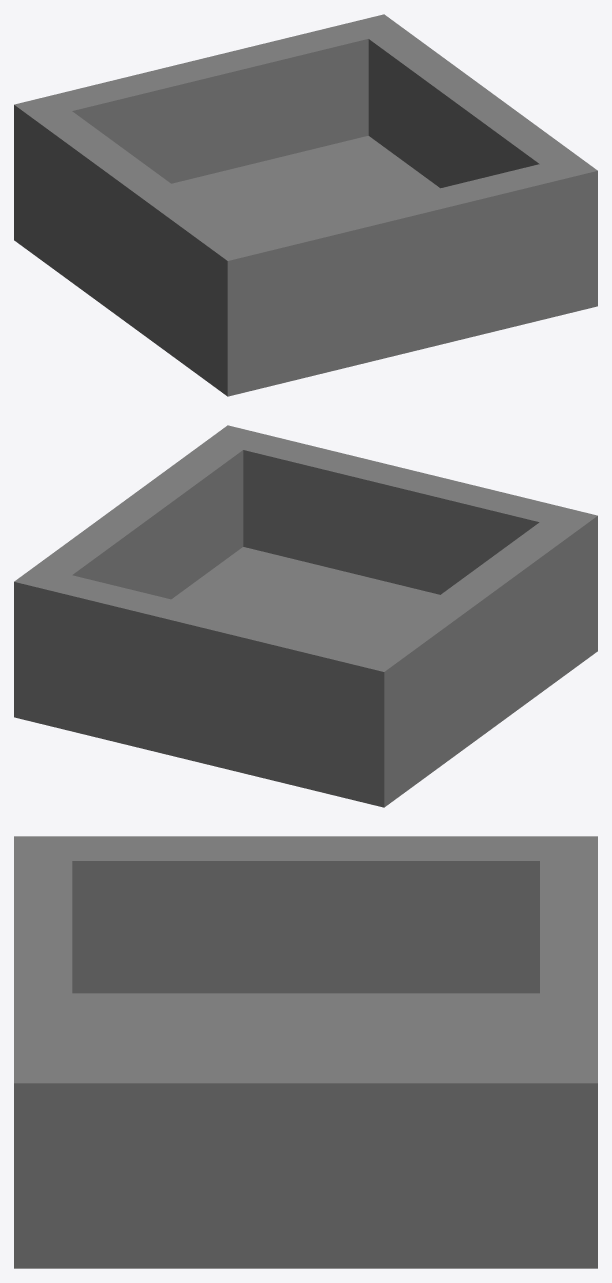
The model's file is GreyRoof_4Edges_Small.glb.
The picture shows the model from 3 angles, top to bottom: view 1: azimuth 30°, elevation 25°; view 2: azimuth 150°, elevation 25°; view 3: azimuth 270°, elevation 25°; orthographic projection. The views are drawn at different scales.
Visible parts, largest first — view 1: roof_flat_4Edges_small_grey; view 2: roof_flat_4Edges_small_grey; view 3: roof_flat_4Edges_small_grey.
Part boxes in pixels (x1,y1,x2,y2): roof_flat_4Edges_small_grey: (14,14,597,396); roof_flat_4Edges_small_grey: (14,425,597,807); roof_flat_4Edges_small_grey: (14,836,597,1268).
Size of what is drawn, in the model's own units: 2 by 0.7 by 2.
Materials: 1 (1 with a texture image).
